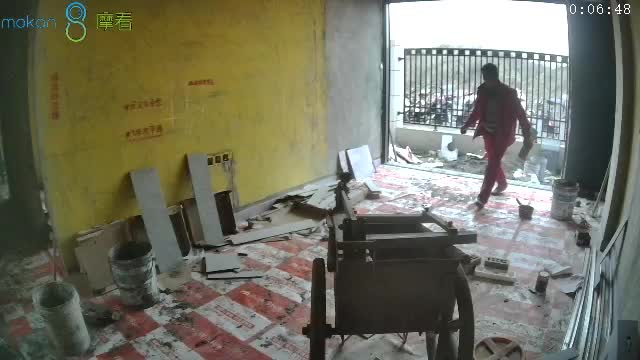people: (462, 63, 534, 206)
window: (390, 2, 568, 141)
